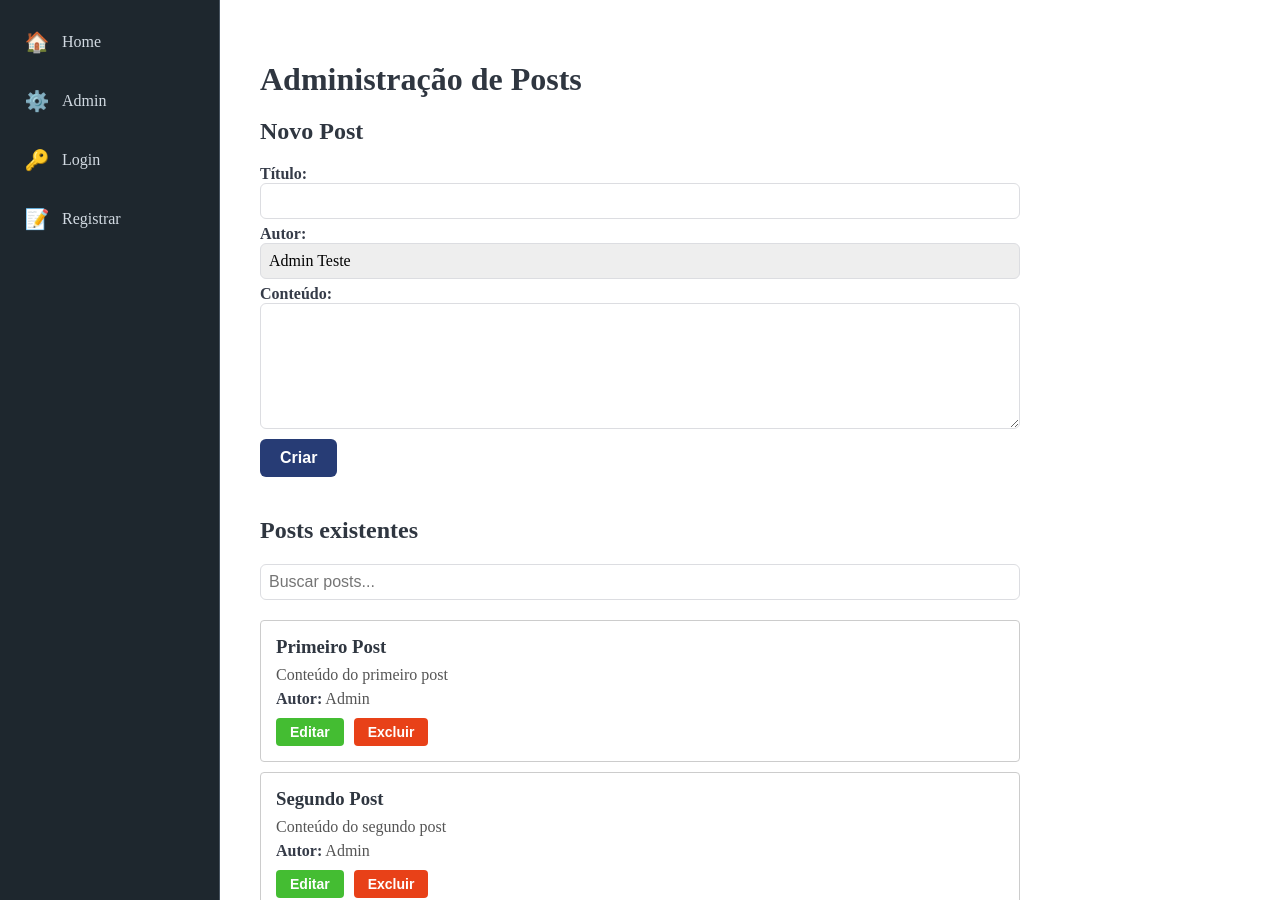
Test case: AdminPage Component › deve filtrar os posts de acordo com o termo de busca
Expected: the heading "Primeiro Post" is shown, [276,636,386,657]
Expected: the heading "Segundo Post" is shown, [276,788,384,809]
// Digita no campo de busca
Type "Segundo" into the field with placeholder "Buscar posts..." at (640, 582), box [260,564,1020,600]
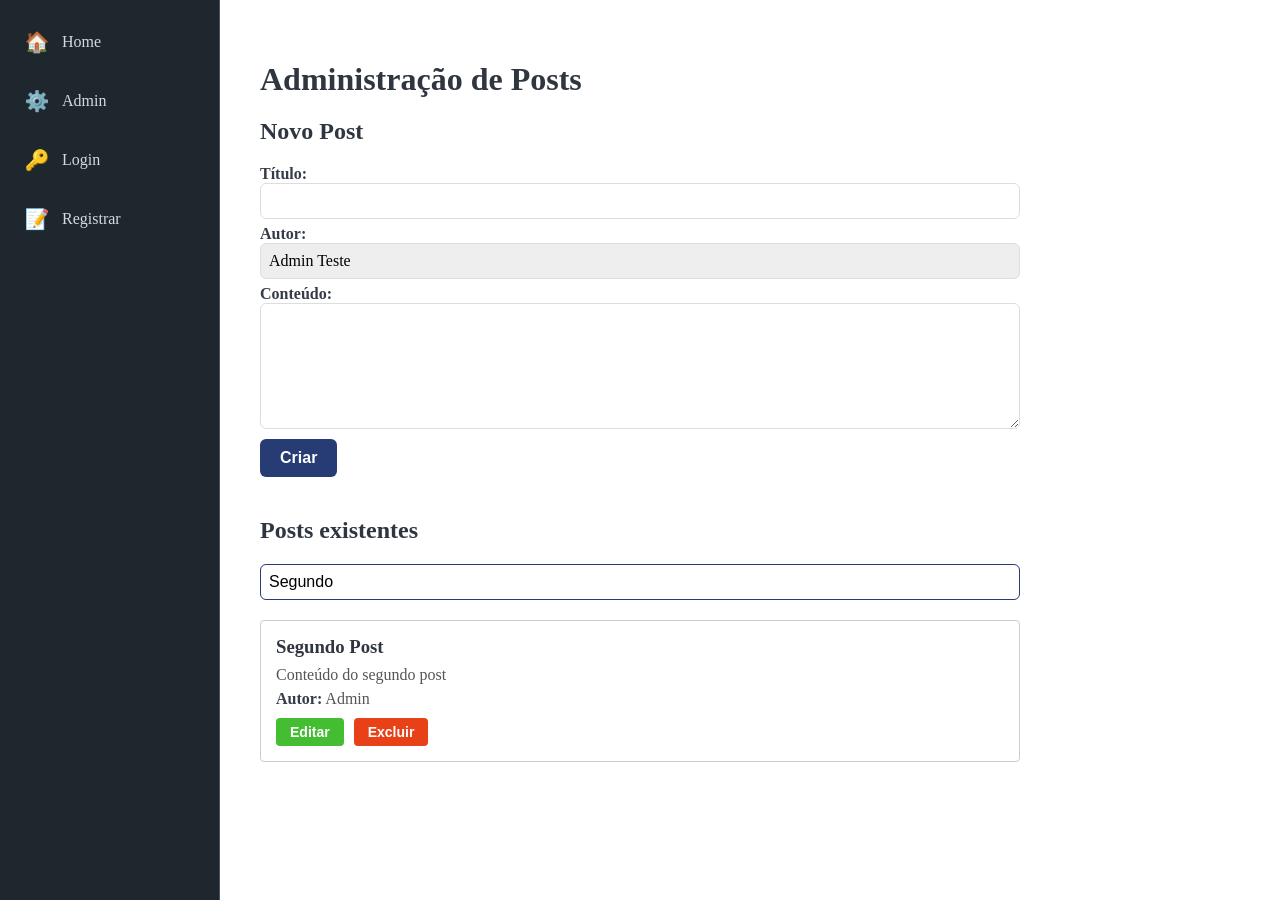
Expected: the heading "Segundo Post" is shown, [276,636,384,657]
Expected: the heading "Primeiro Post" is gone
